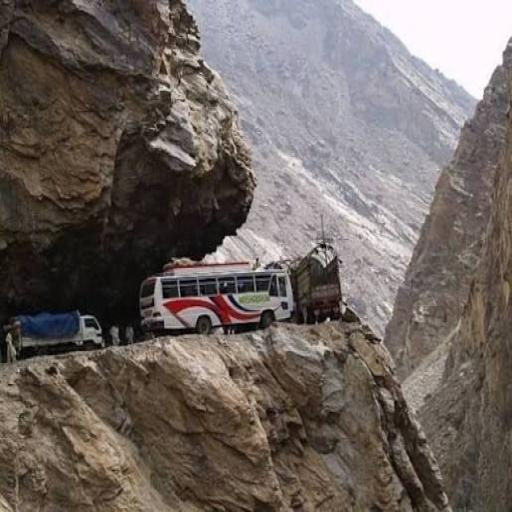Road_Blockage: (8, 239, 347, 365)
